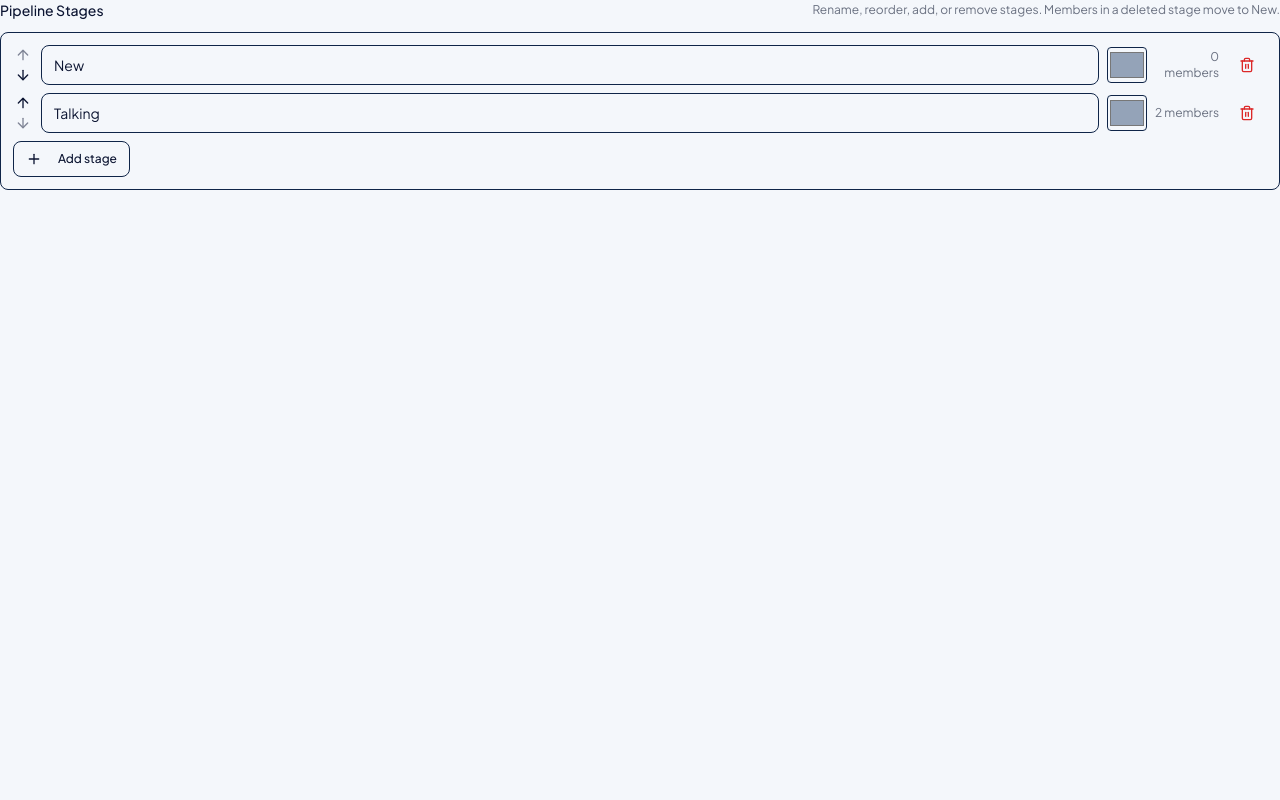
Scenario: StagesEditor › asks in the app's dialog before removing a stage that holds members, and cancel keeps it
The width and height of the screenshot is (1280, 800).
Later steps or results of the test are not shown.
Click the 2nd button named "Remove stage".
click(1247, 113)  # box [1227, 93, 1267, 133]
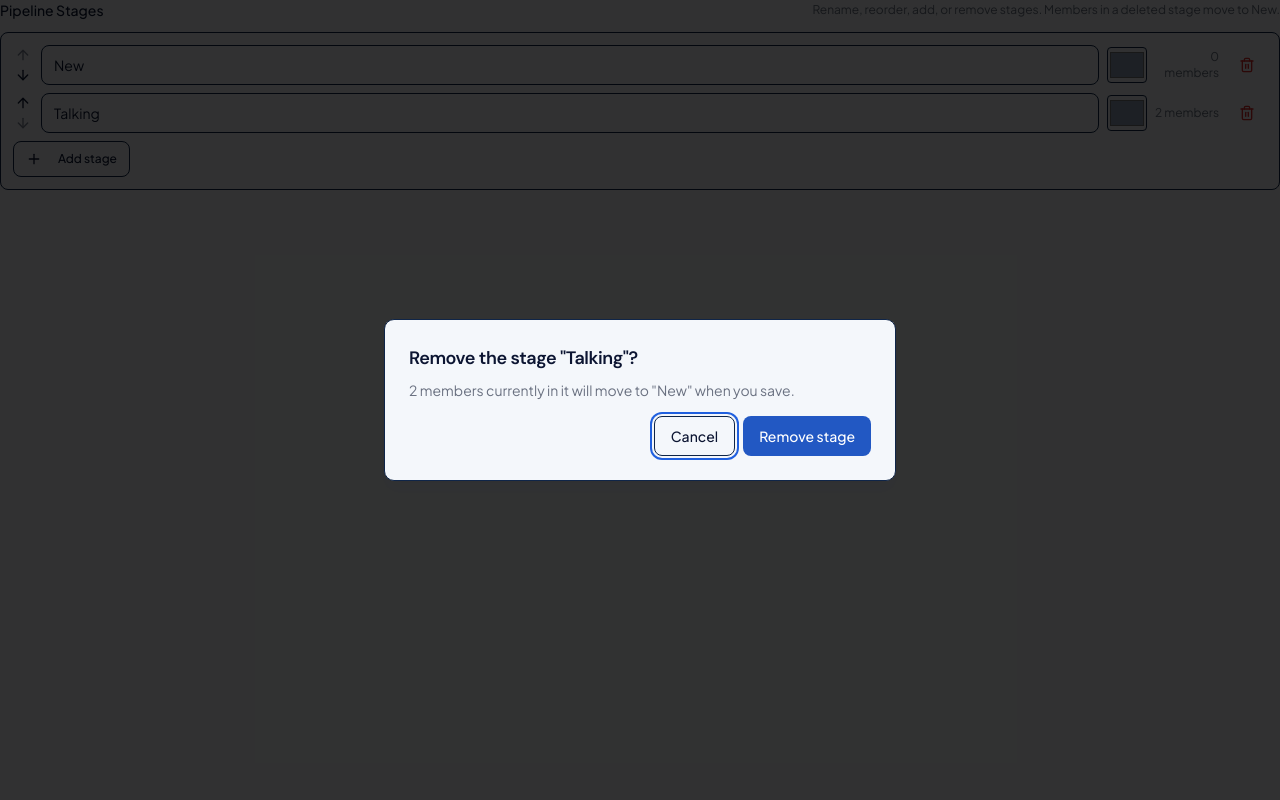
Expected: the dialog is shown, [384, 319, 896, 481]
Expected: the text "2 members currently in it will move to \"New\" when you save." is shown, [409, 381, 795, 399]
Click the button "Cancel".
click(694, 436)  # box [654, 416, 735, 456]
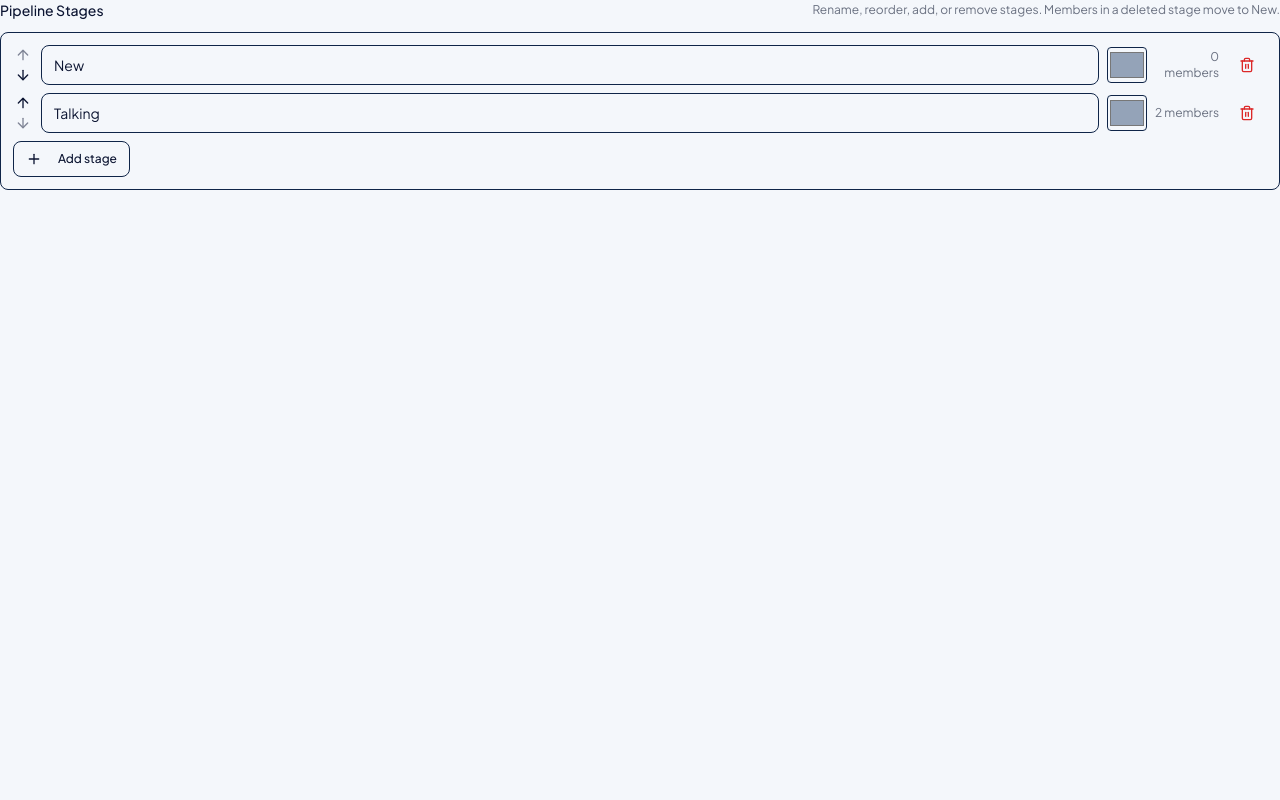
Expected: the dialog is gone
